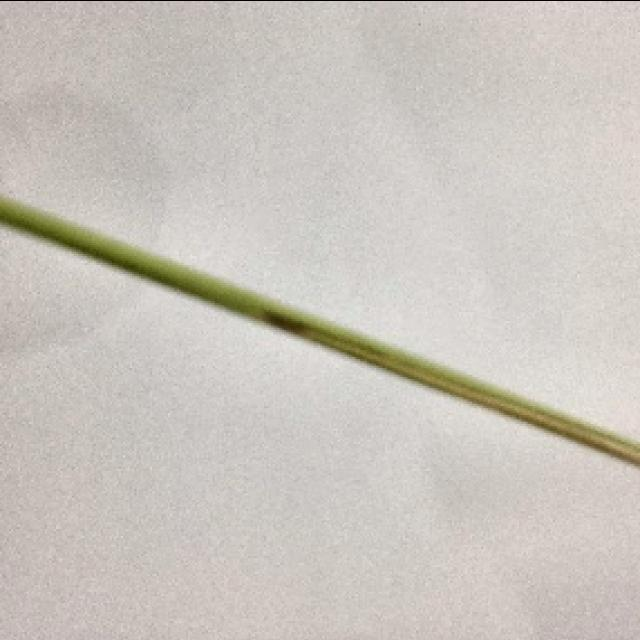Leaf_Blast: (253, 286, 333, 344)
